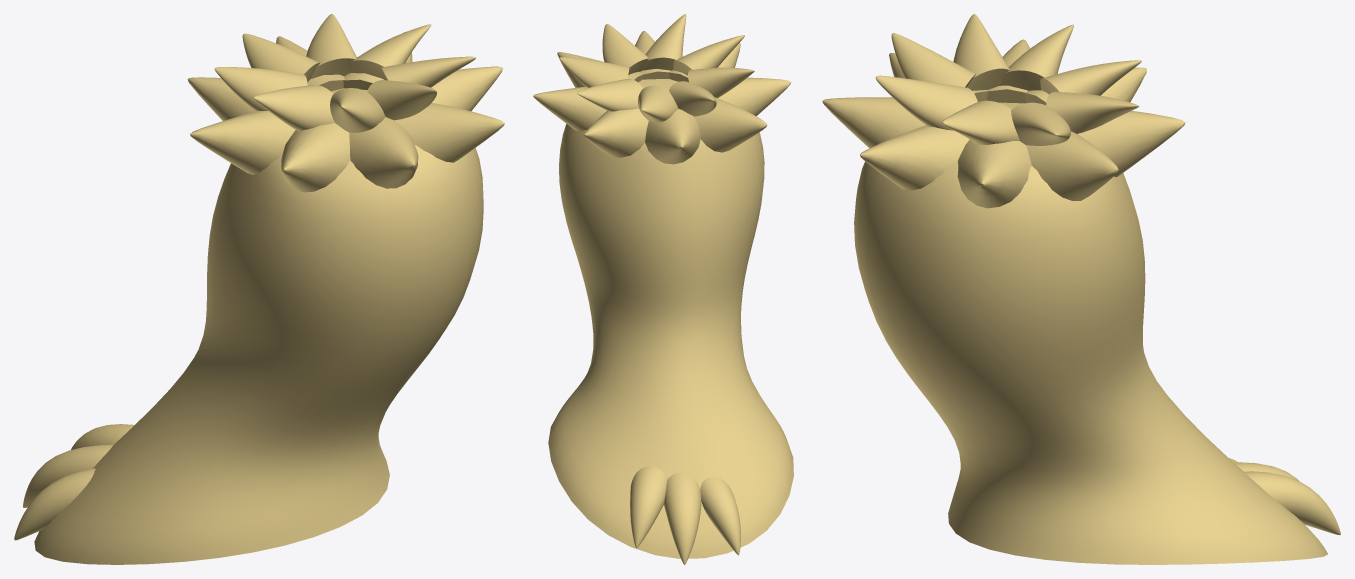
File: lucariochest.glb
3 renders of one model, left to right at view 1: azimuth 30°, elevation 25°; view 2: azimuth 150°, elevation 25°; view 3: azimuth 270°, elevation 25°, orthographic. The views are drawn at different scales.
Visible parts, largest first — view 1: Object_9; view 2: Object_9; view 3: Object_9.
Boxes of the visible parts, <box> form: Object_9: <box>14,14,504,564</box>; Object_9: <box>533,14,793,564</box>; Object_9: <box>822,14,1340,564</box>.
Bounding box in the file's own units: 0.0421 × 0.0577 × 0.0483.
1 material, 1 textured.
